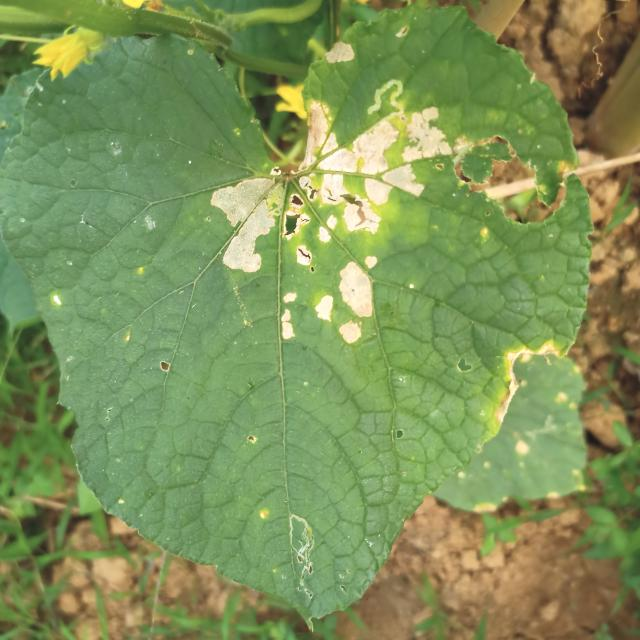disease_cucumber: (204, 91, 446, 359)
